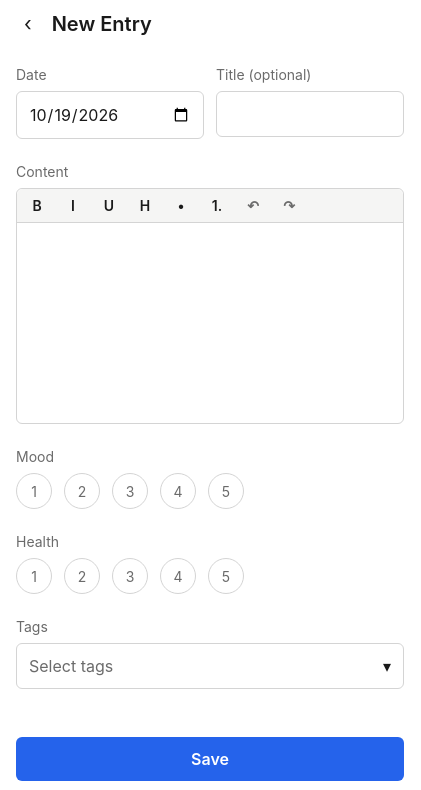
Scenario: EntryEditorPage › requires content before saving
Click the button "Save" at (210, 759), box left=16, top=737, right=404, bottom=781
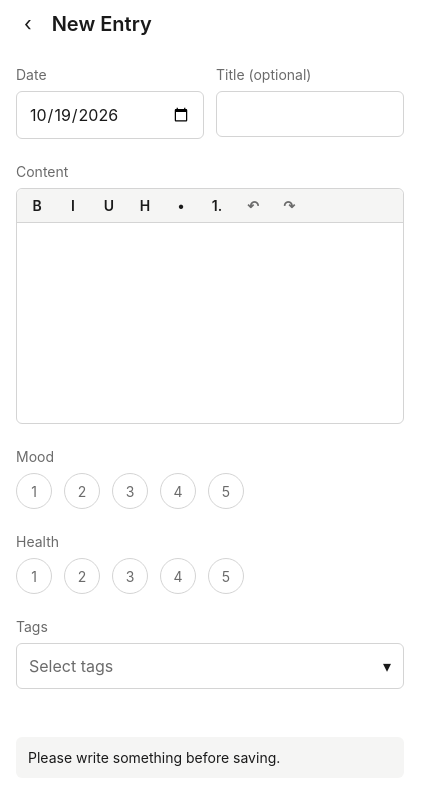
Expected: the message reads "Please write something before saving.", left=28, top=749, right=280, bottom=766
